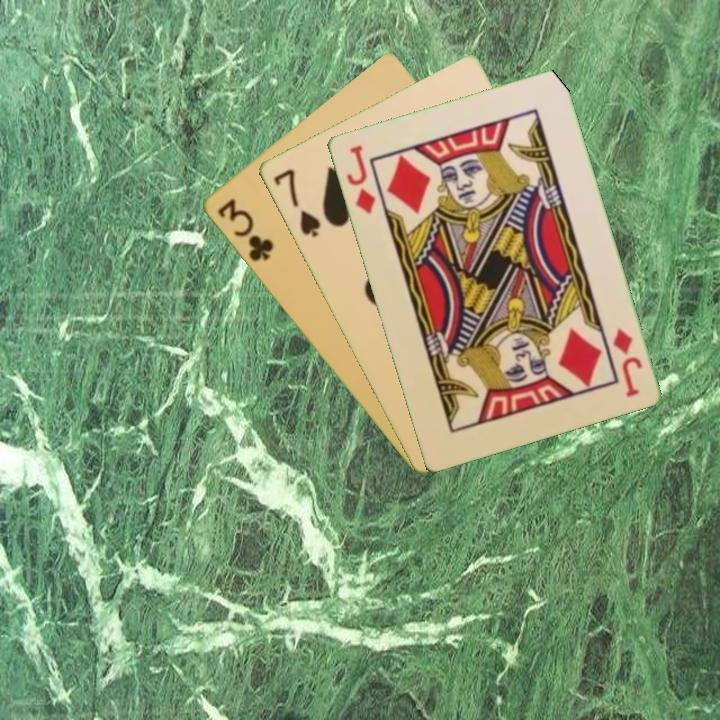3c: (213, 194, 276, 265)
7s: (269, 165, 323, 240)
Jd: (342, 141, 379, 217), (608, 324, 645, 400)
